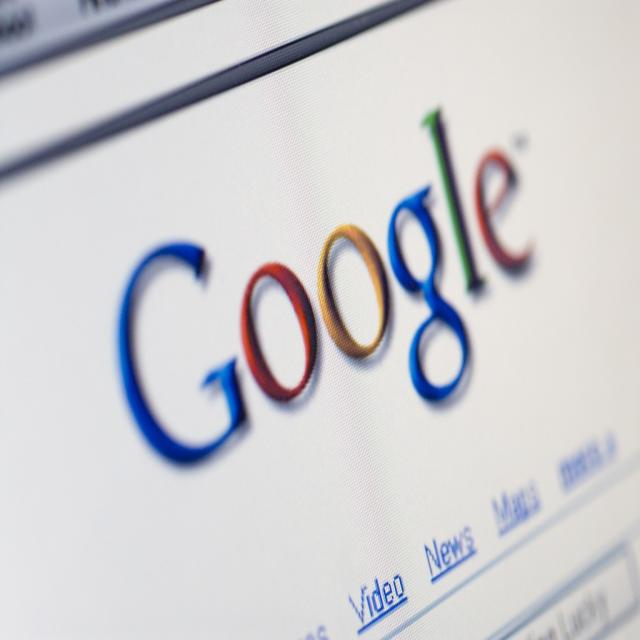google: (111, 98, 540, 484)
